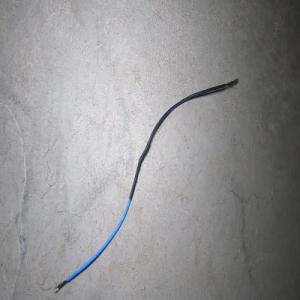Wire: (54, 76, 238, 292)
